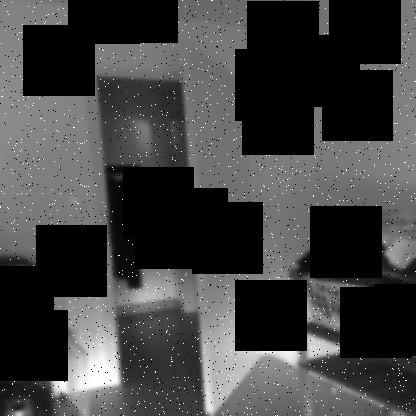Porte: (83, 45, 273, 415)
